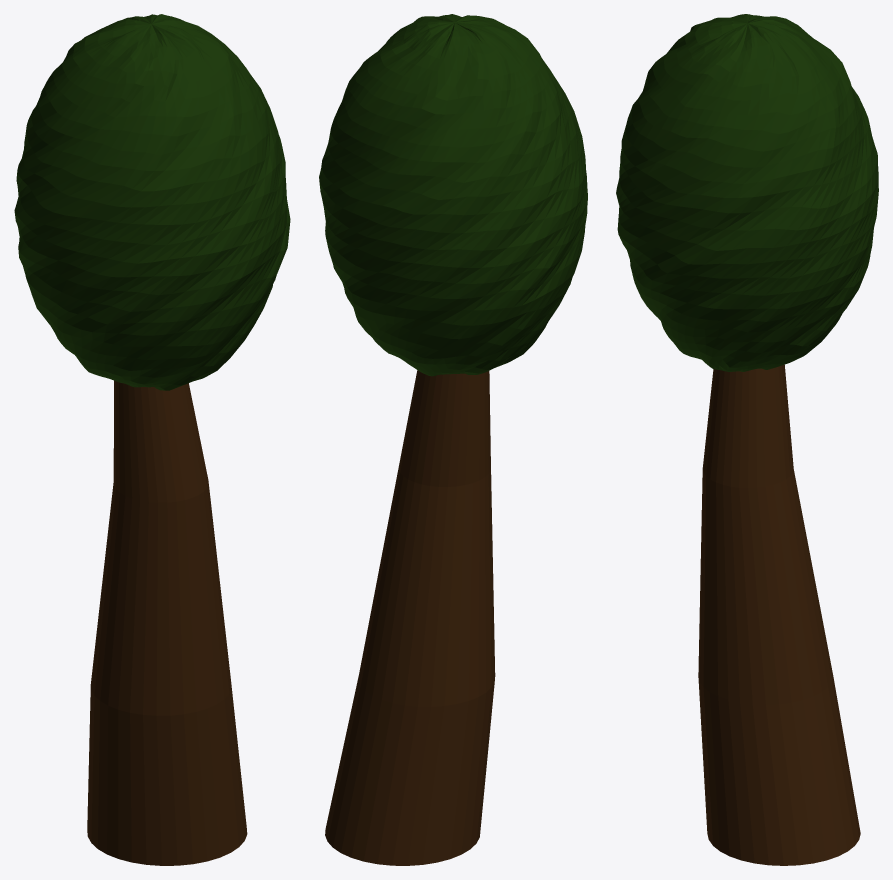
Rendered from TreeC.obj.
3 renders of one model, left to right at view 1: azimuth 30°, elevation 25°; view 2: azimuth 150°, elevation 25°; view 3: azimuth 270°, elevation 25°, orthographic. The views are drawn at different scales.
Parts seen in each view (by area): view 1: Sphere.002_Sphere.002_TreeLeaves, Sphere.002_Sphere.002_Bark1; view 2: Sphere.002_Sphere.002_TreeLeaves, Sphere.002_Sphere.002_Bark1; view 3: Sphere.002_Sphere.002_TreeLeaves, Sphere.002_Sphere.002_Bark1.
Part boxes in pixels (x1=…): Sphere.002_Sphere.002_TreeLeaves: x1=14, y1=14, x2=290, y2=390; Sphere.002_Sphere.002_Bark1: x1=87, y1=380, x2=247, y2=865; Sphere.002_Sphere.002_TreeLeaves: x1=319, y1=14, x2=587, y2=376; Sphere.002_Sphere.002_Bark1: x1=325, y1=370, x2=495, y2=865; Sphere.002_Sphere.002_TreeLeaves: x1=616, y1=14, x2=878, y2=371; Sphere.002_Sphere.002_Bark1: x1=698, y1=364, x2=860, y2=865.
Bounding box in the file's own units: 0.4661 × 1.54 × 0.463.
